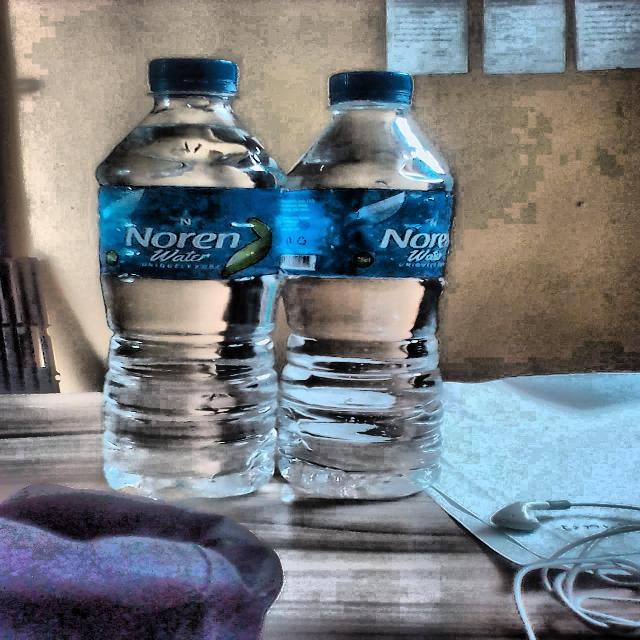plastic bottle: (95, 57, 282, 500), (278, 70, 454, 500)
